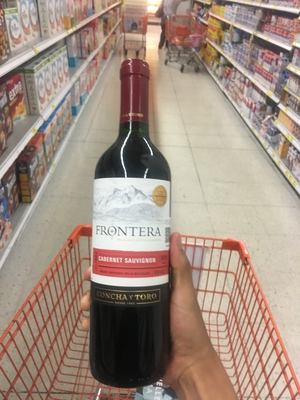frontera cabernet sauvignon: (94, 56, 174, 385)
